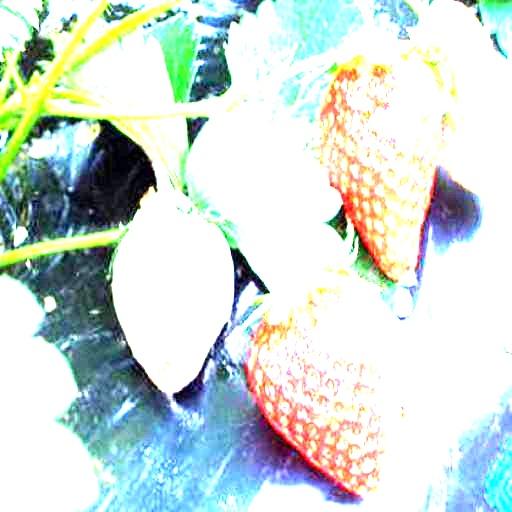Gray Mold: (112, 193, 236, 394)
